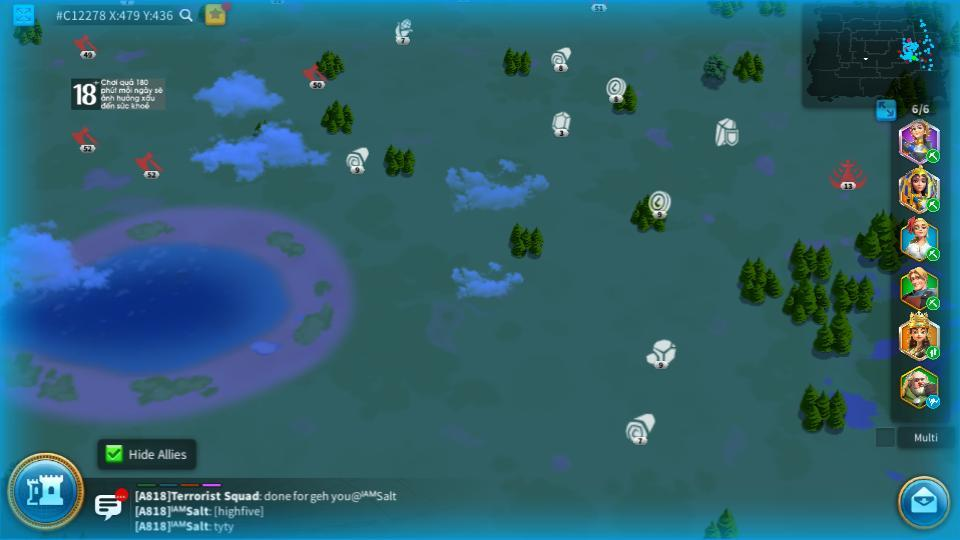gem-z-out: (551, 112, 573, 137)
march_farming: (922, 198, 940, 213), (923, 148, 940, 163), (925, 345, 941, 359), (925, 297, 941, 310), (924, 247, 938, 261)
march_idle: (925, 396, 942, 408)
